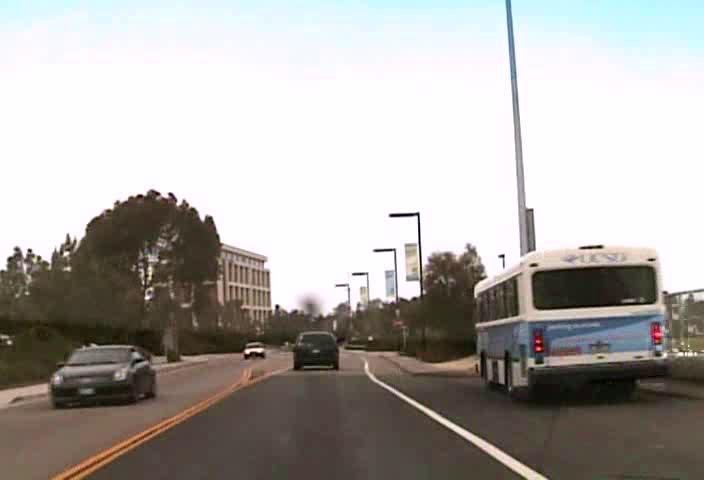stop: (392, 318, 403, 328)
